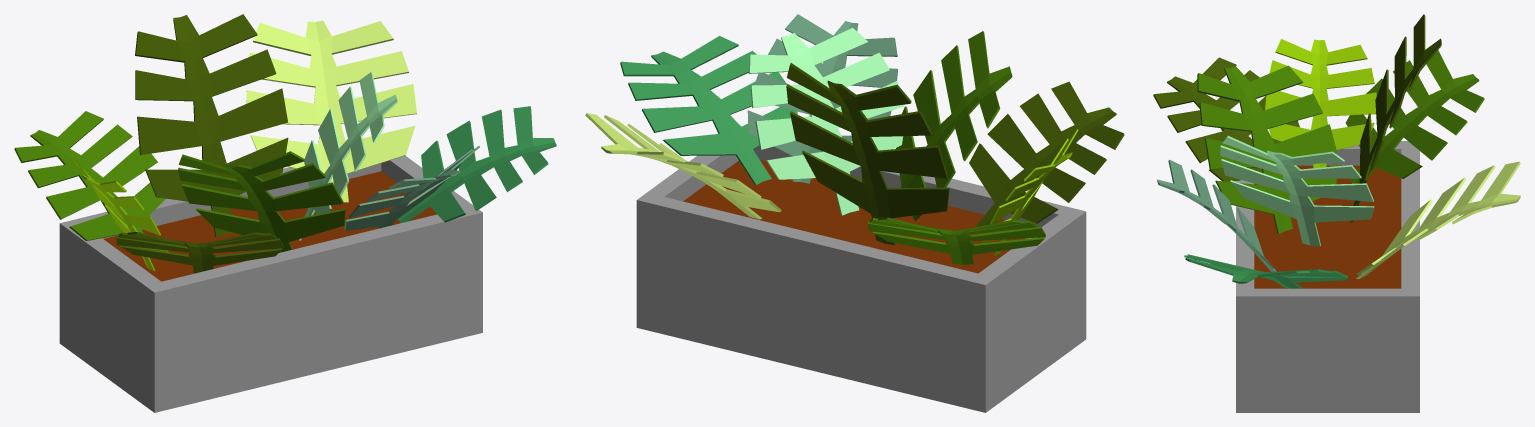
The model's file is Plants_1.fbx.
The picture shows the model from 3 angles, left to right: view 1: azimuth 30°, elevation 25°; view 2: azimuth 150°, elevation 25°; view 3: azimuth 270°, elevation 25°; orthographic projection. The views are drawn at different scales.
Parts seen in each view (by area): view 1: Plant; view 2: Plant; view 3: Plant.
Boxes of the visible parts, <box> form: Plant: <box>14,14,556,412</box>; Plant: <box>585,14,1124,412</box>; Plant: <box>1153,14,1520,412</box>.
Bounding box in the file's own units: 271 × 169 × 200.
